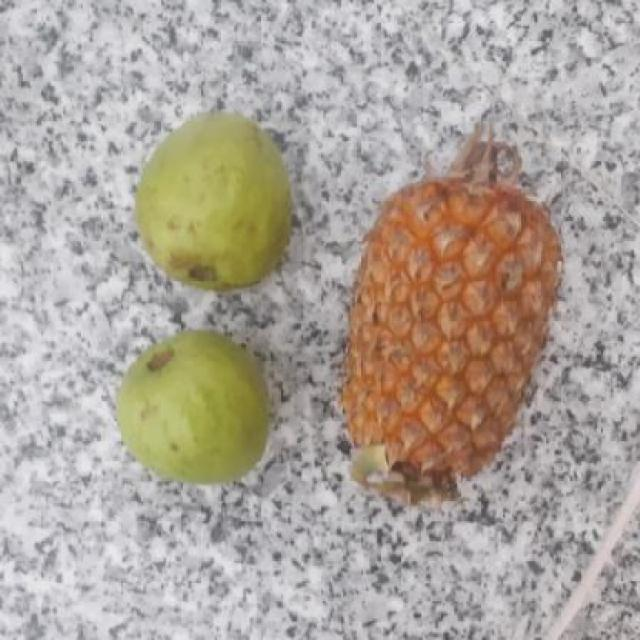guava: (131, 115, 292, 283), (109, 334, 269, 484)
pineapple: (340, 173, 557, 498)
